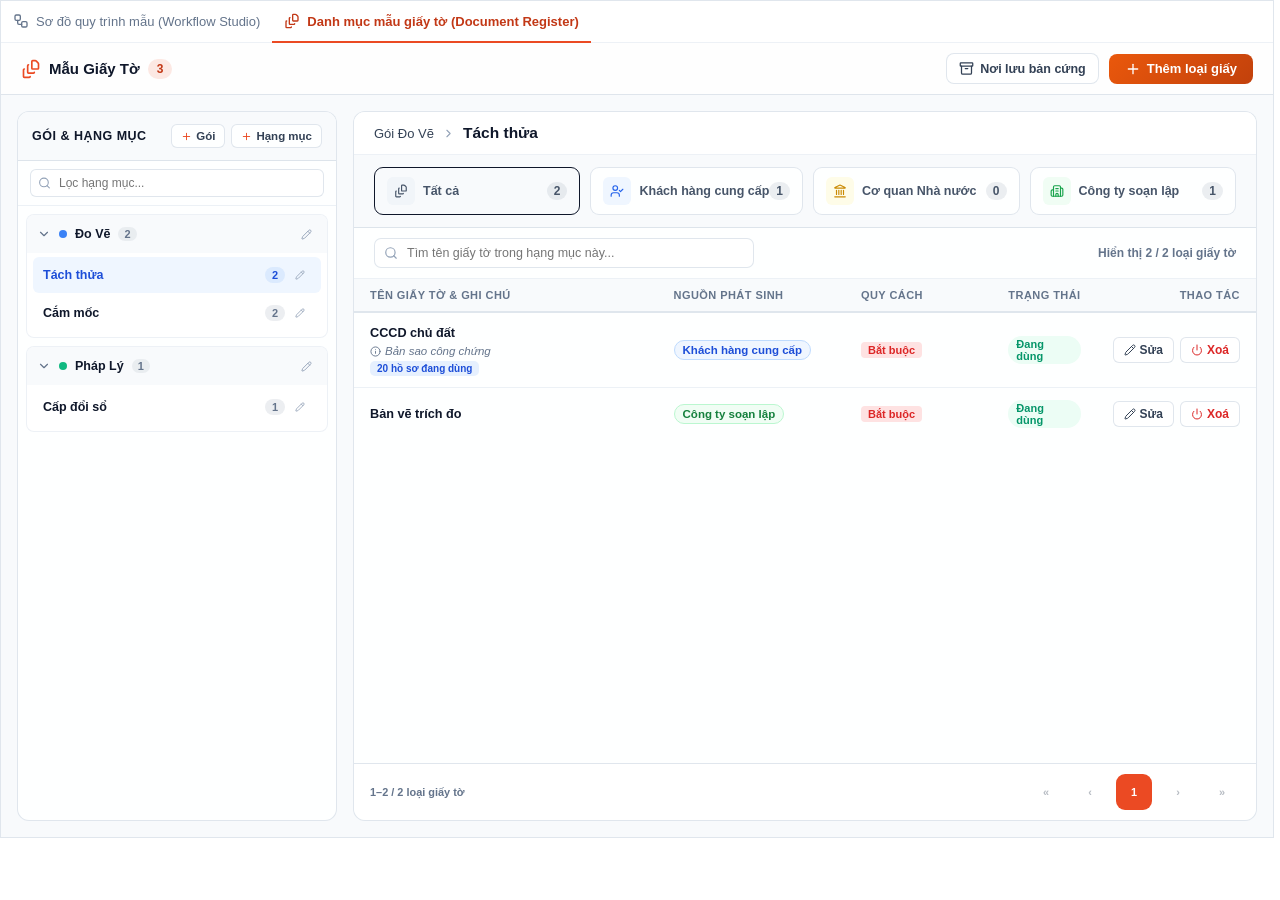
DocumentTemplateSettings — Bố cục 2 vùng Enterprise › mở modal Nơi lưu bản cứng khi bấm nút trên header
Expected: the heading "Tách thửa" is shown, [463,124,538,142]
Click the button with aria-label "Danh mục nơi lưu bản cứng" at (1022, 68), box [946,53,1099,84]
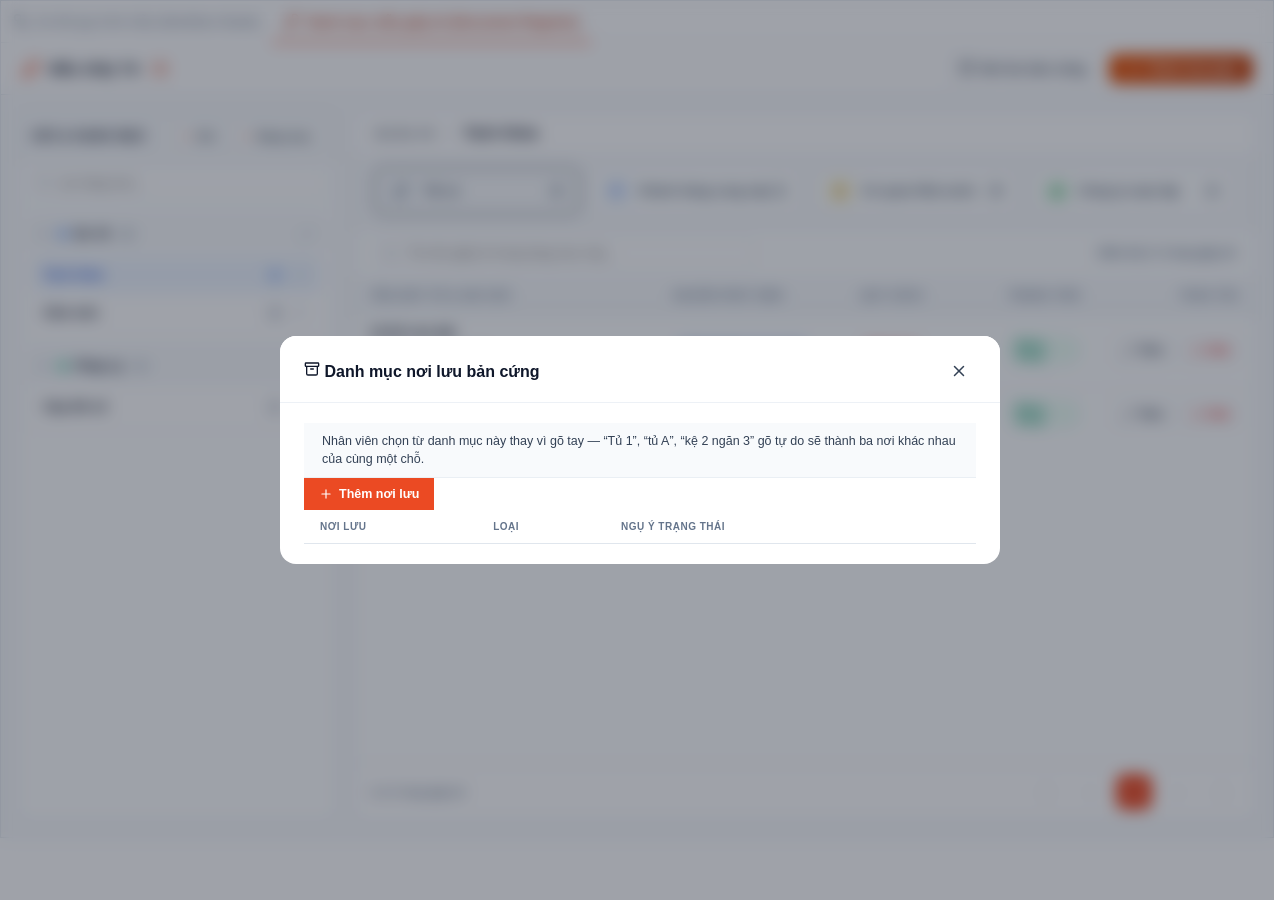
Expected: the heading "Danh mục nơi lưu bản cứng" is shown, [304,361,540,381]
